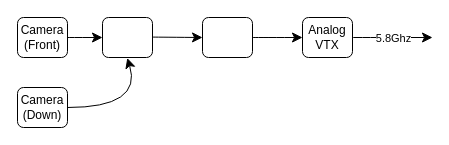
Image size: 449x145. Some labels were removed from this diagram. Here are the shapes that lost their labels. From the top down, the box of each, then its label:
(102, 16, 152, 58): Jetson Nano
(202, 16, 252, 58): HDMI to AV converter
